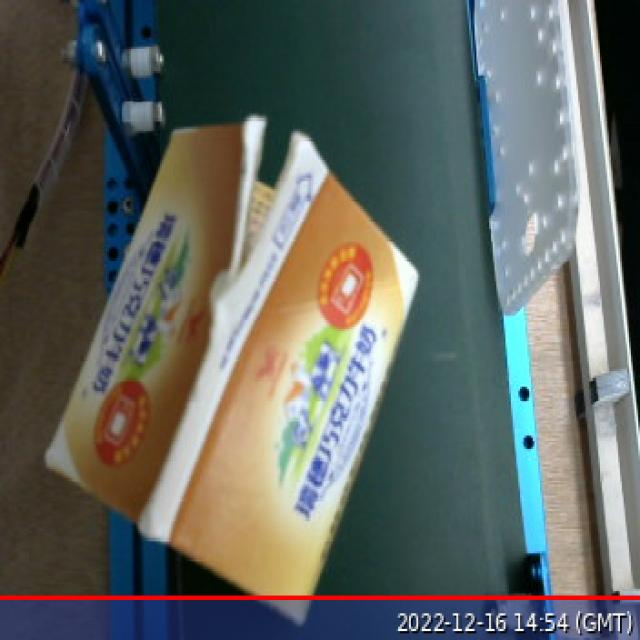non_white_jug: (30, 98, 432, 639)
